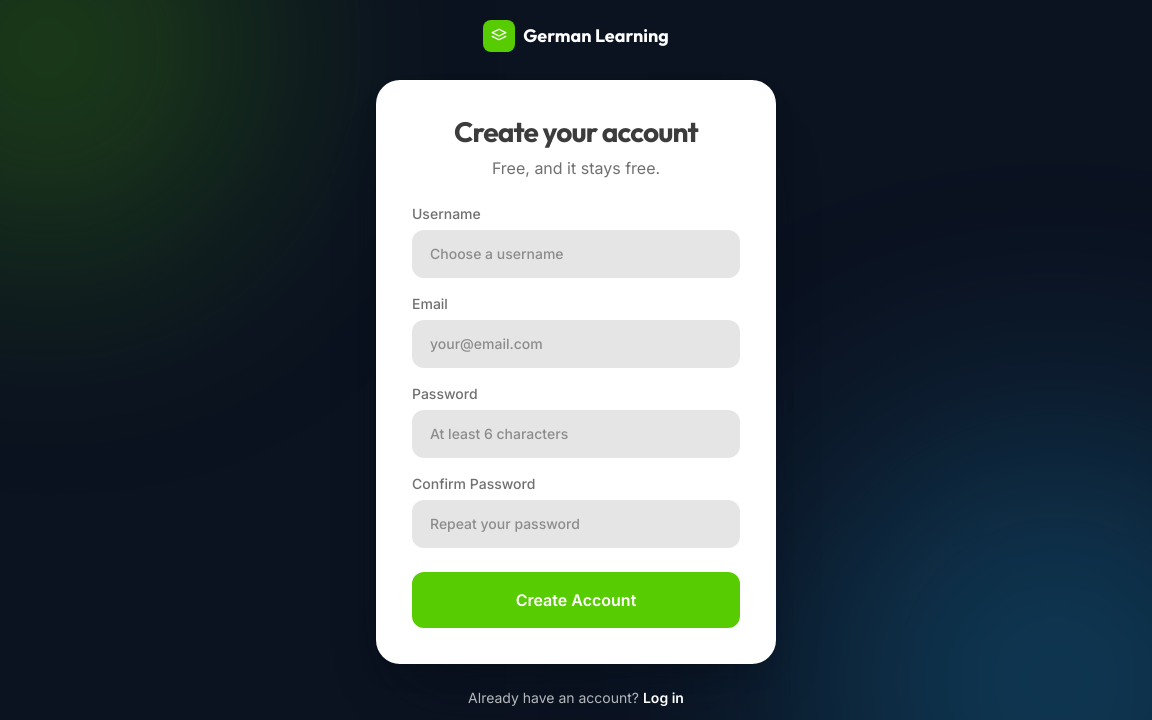
Test: RegisterPage › refuses a username shorter than three characters
The image size is (1152, 720).
Type "an" into the field labelled "Username".
click(576, 254); type("an")  # box [412, 230, 740, 278]
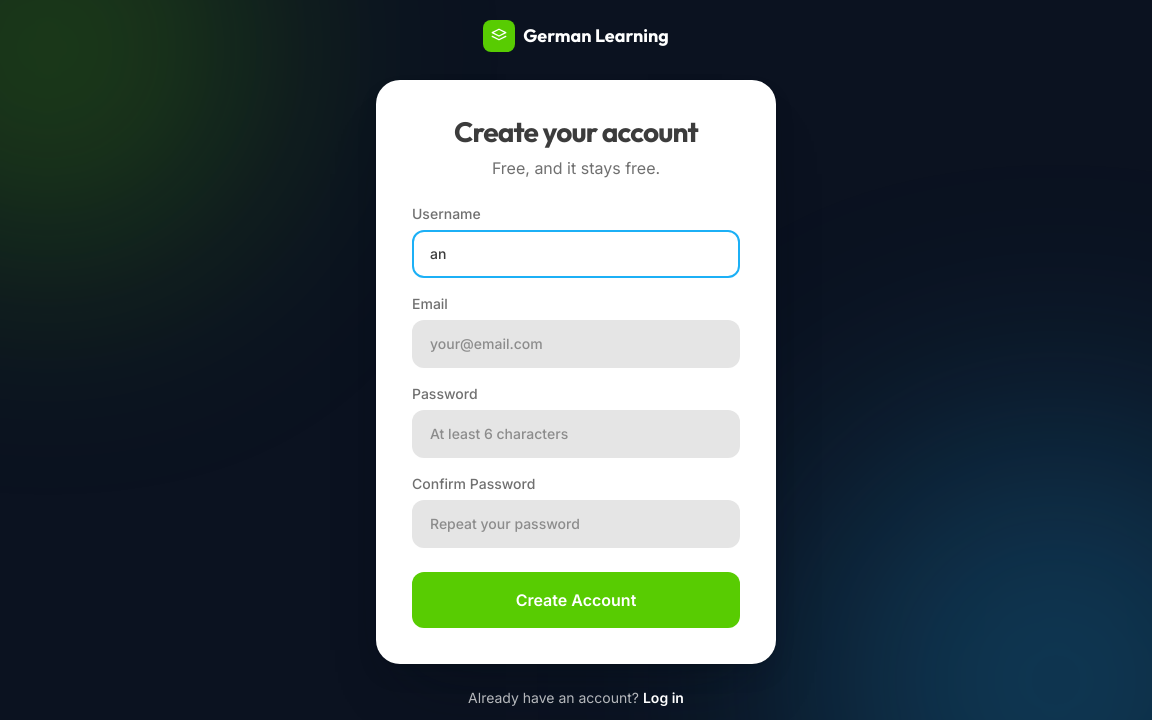
Type "anna@example.com" into the field labelled "Email".
click(576, 344); type("anna@example.com")  # box [412, 320, 740, 368]
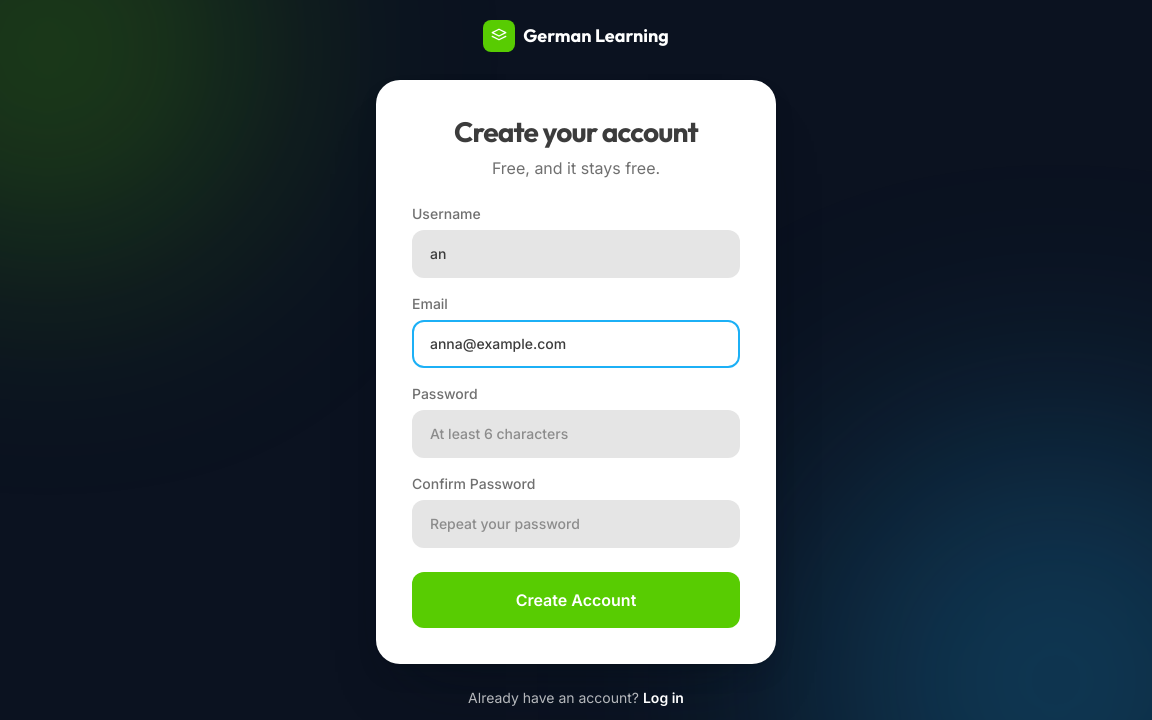
Type "secret123" into the password field labelled "Password".
click(576, 434); type("secret123")  # box [412, 410, 740, 458]
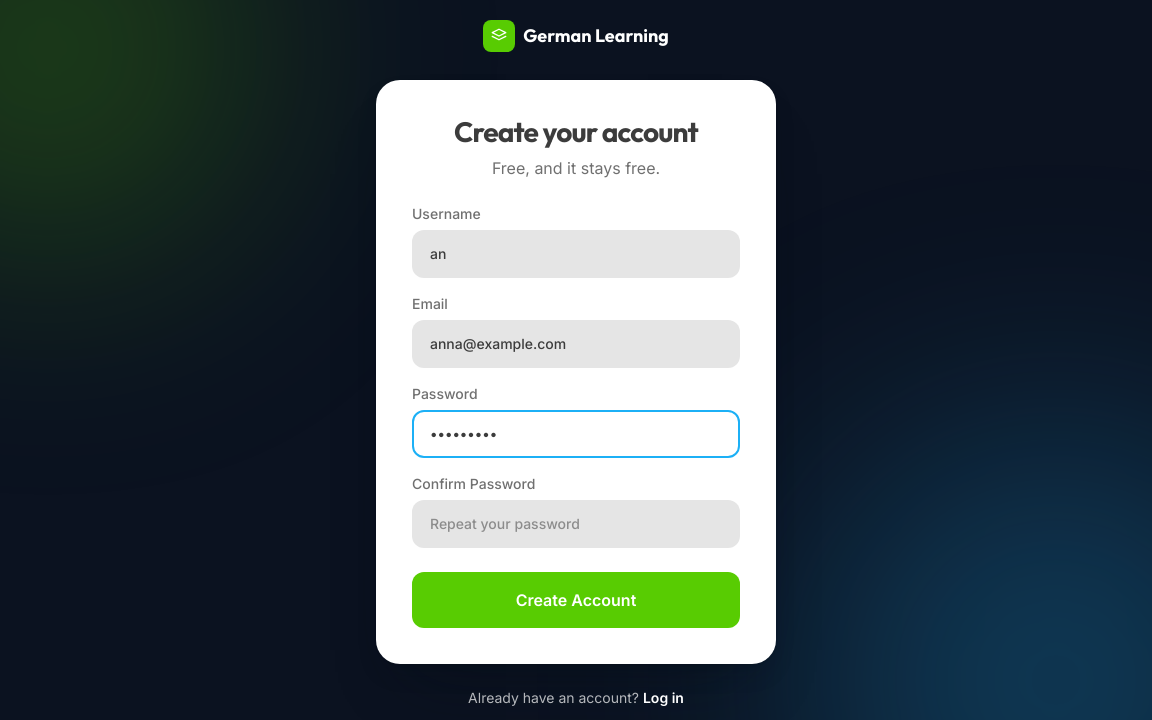
Type "secret123" into the password field labelled "Confirm Password".
click(576, 524); type("secret123")  # box [412, 500, 740, 548]
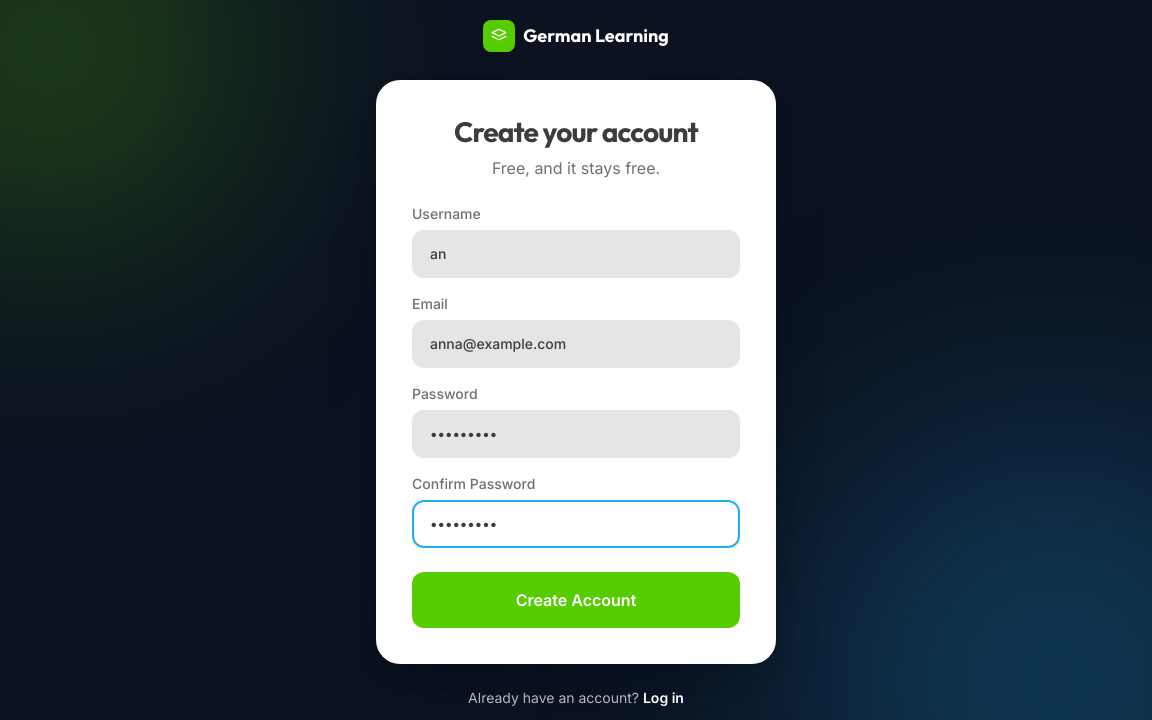
Click the button "Create Account".
click(576, 600)  # box [412, 572, 740, 628]
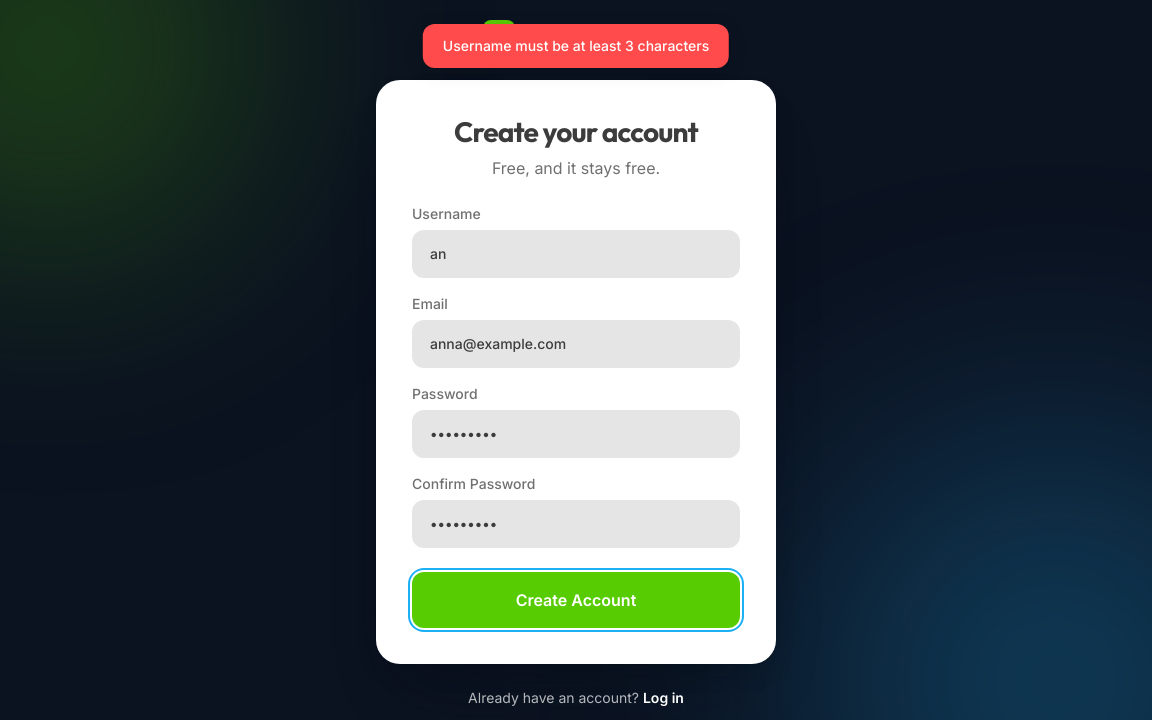
Now the message reads "Username must be at least 3 characters", box [443, 37, 709, 54]
